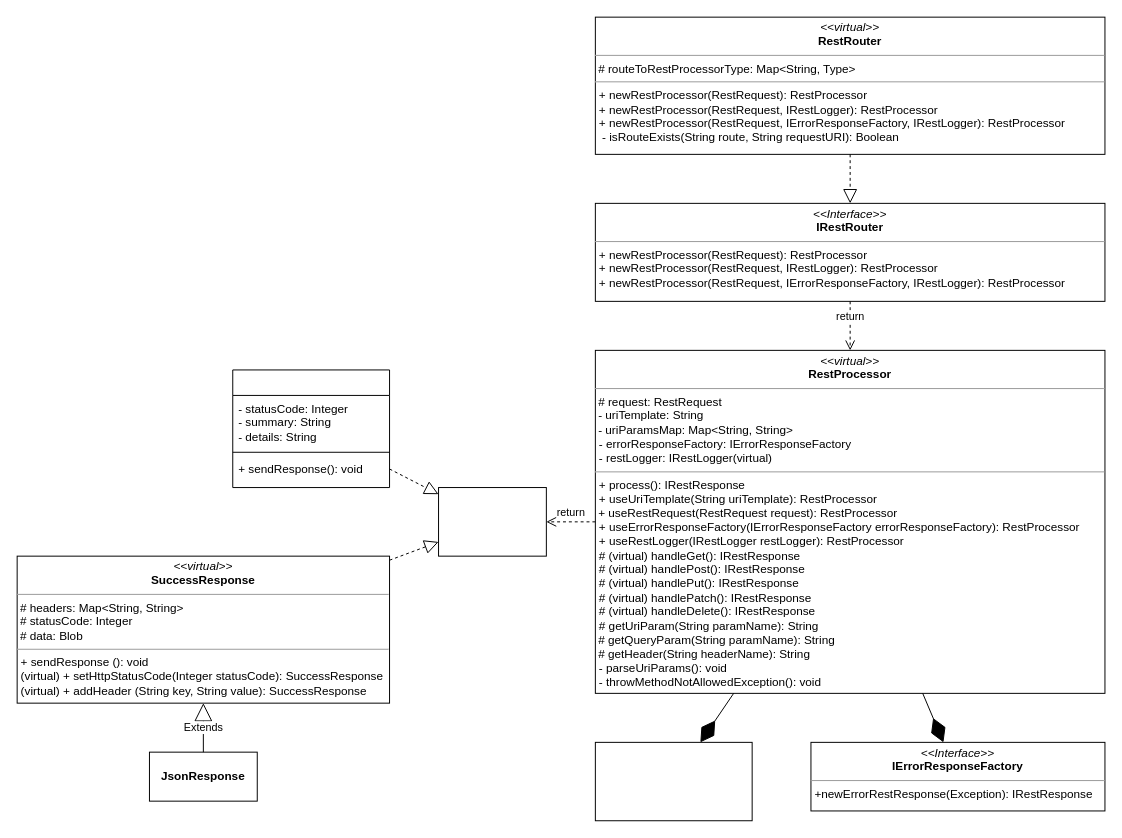
This 1122x838 diagram has some shape labels left out. Each missing label, with the box of its shape:
<<Interface>> IRestLogger +addErrorDetails(Exception) +createLog(): (594, 741, 752, 821)
<<Interface>> IRestResponse +sendResponse(): (438, 487, 546, 556)
ErrorResponse: (232, 369, 390, 488)
